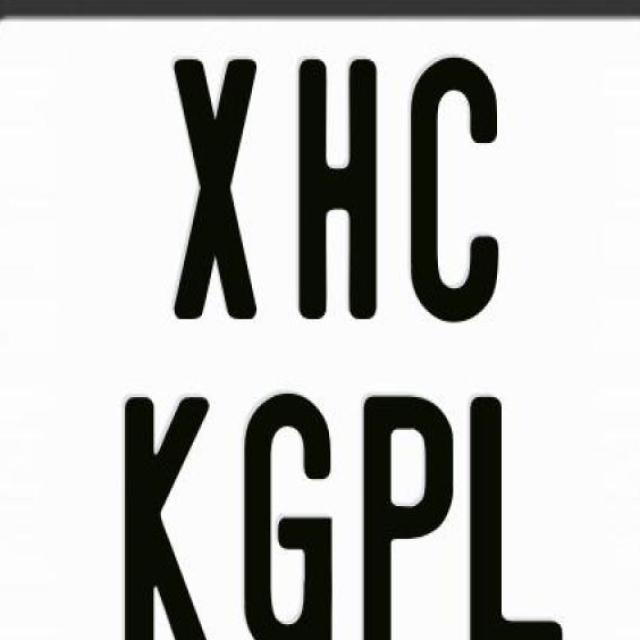license-plate: (80, 28, 640, 640)
